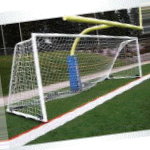goals: (4, 30, 145, 123)
